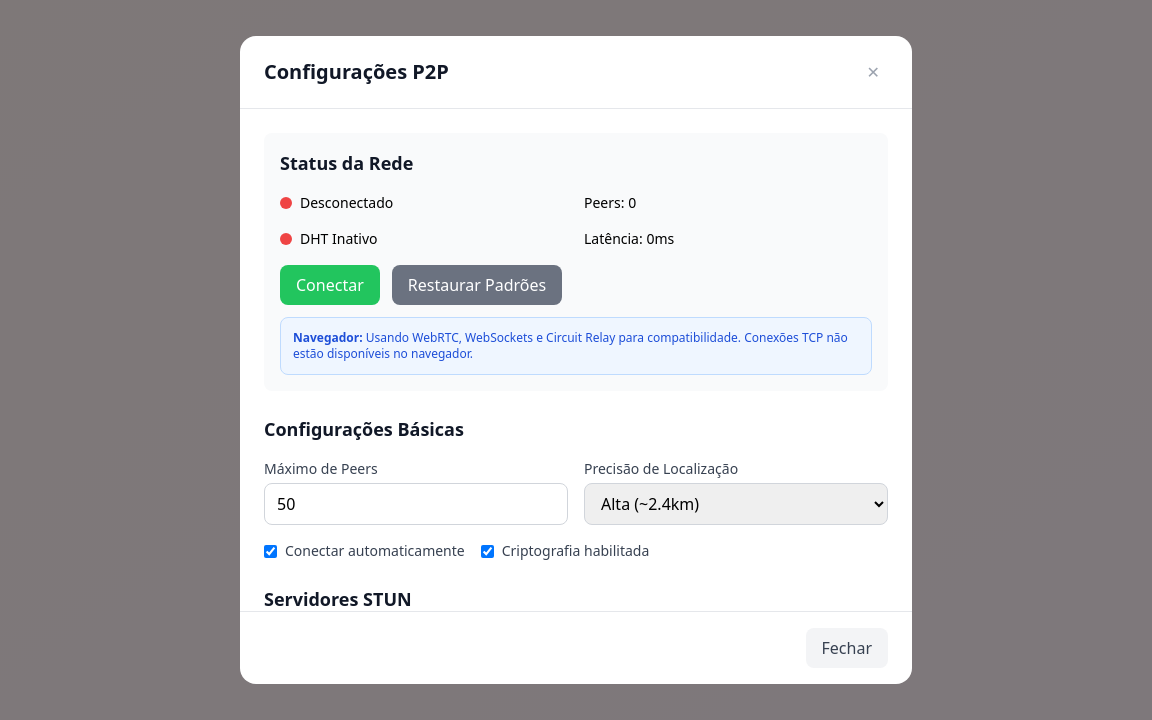
Scenario: P2P Browser Compatibility › handles WebRTC errors with helpful message
Click the button "Conectar": coordinates (330, 285) [280, 265, 380, 305]
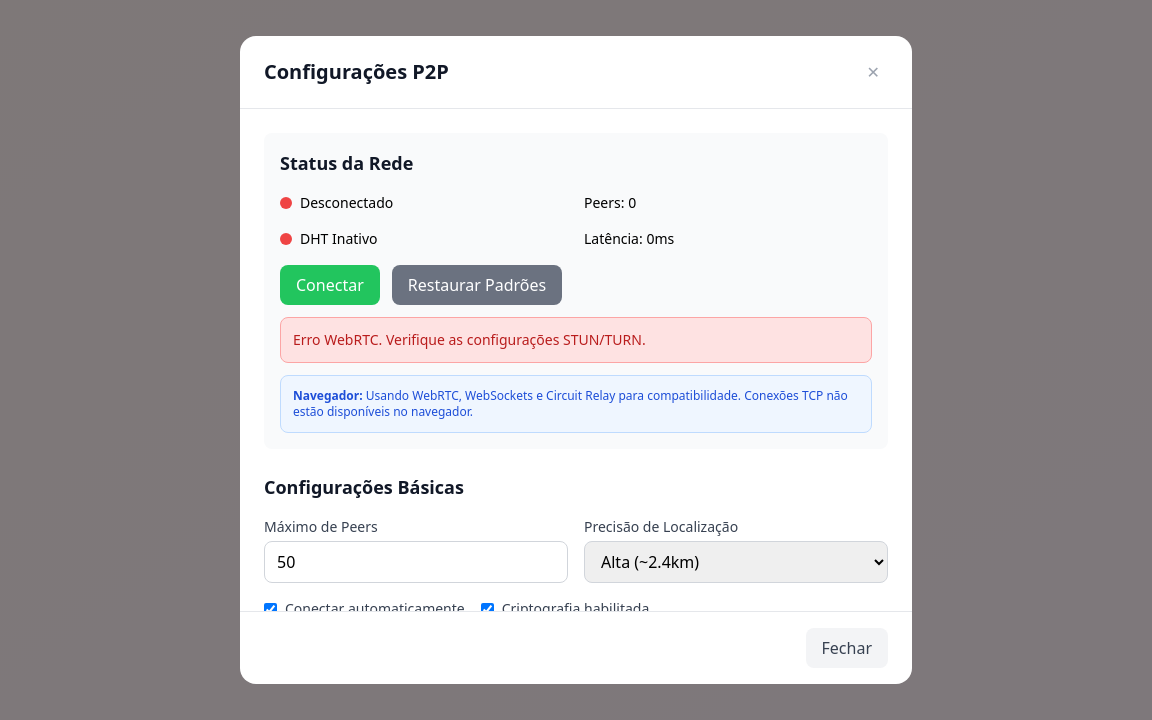
Check: the text "Erro WebRTC. Verifique as configurações STUN/TURN." is shown, box [293, 330, 646, 349]
